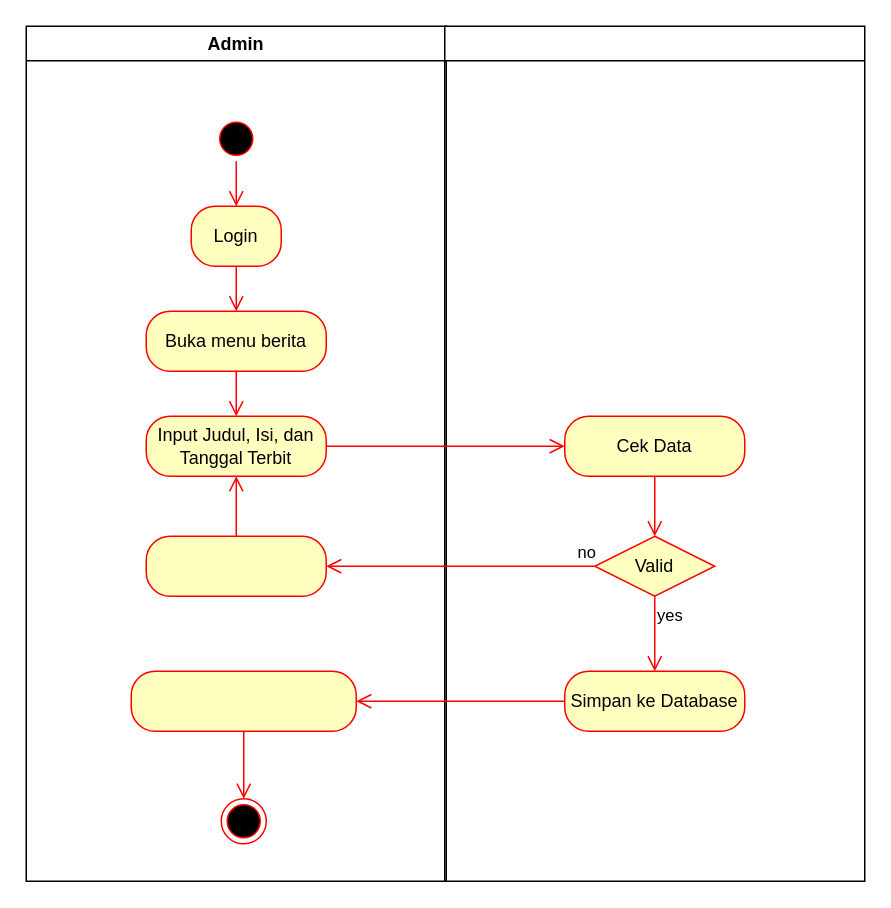
Some shapes in this 891 by 908 pixel diagram are drawn without their labels. Each missing label, with the box of its shape:
Sistem: (443, 25, 865, 881)
Tampilkan pesan "Berita berhasil disimpan": (130, 670, 356, 731)
Tampilkan pesan "Input tidak valid": (145, 535, 326, 596)
